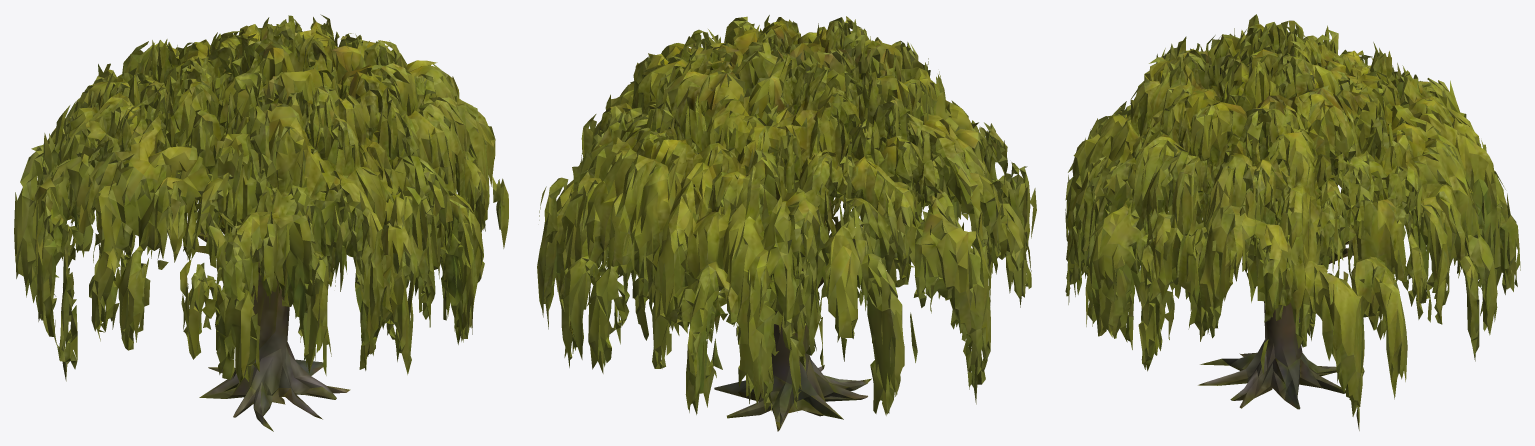
File: lib_willow.glb
3 views of the same model, side by side, from view 1: azimuth 30°, elevation 25°; view 2: azimuth 150°, elevation 25°; view 3: azimuth 270°, elevation 25° (orthographic). The views are drawn at different scales.
Visible parts, largest first — view 1: output_unwrapped; view 2: output_unwrapped; view 3: output_unwrapped.
Boxes of the visible parts, <box> form: output_unwrapped: <box>14,14,508,431</box>; output_unwrapped: <box>537,15,1036,431</box>; output_unwrapped: <box>1065,14,1520,430</box>.
Size of the model in its own units: 1.98 by 1.61 by 1.95.
1 material, 1 textured.
